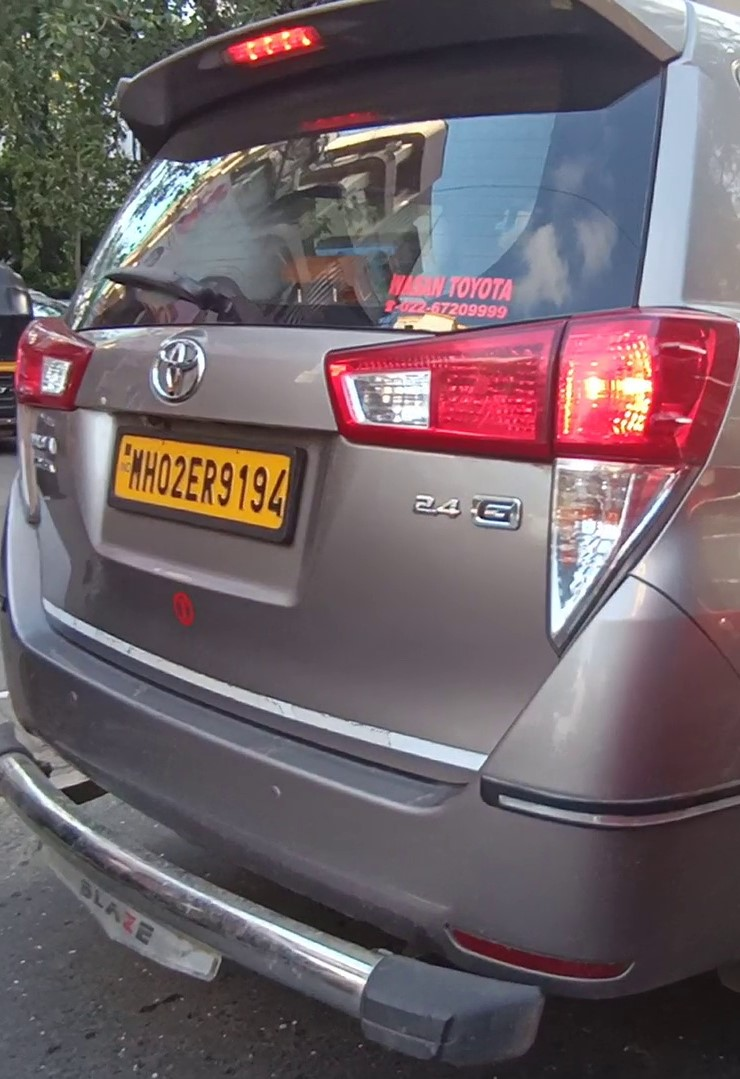MH02ER9194: (113, 430, 292, 530)
